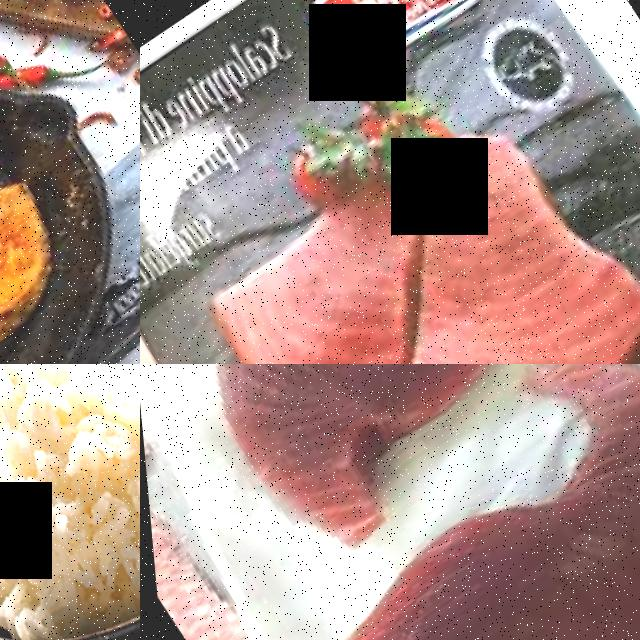tuna: (243, 369, 640, 640), (143, 364, 608, 541), (345, 124, 640, 364), (188, 187, 467, 364)
white rice: (0, 364, 140, 640)
